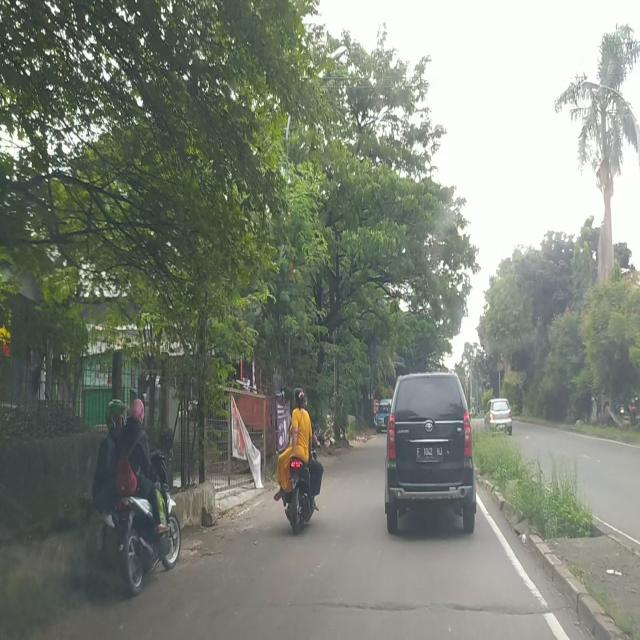Sewer Cover: (304, 598, 540, 619)
